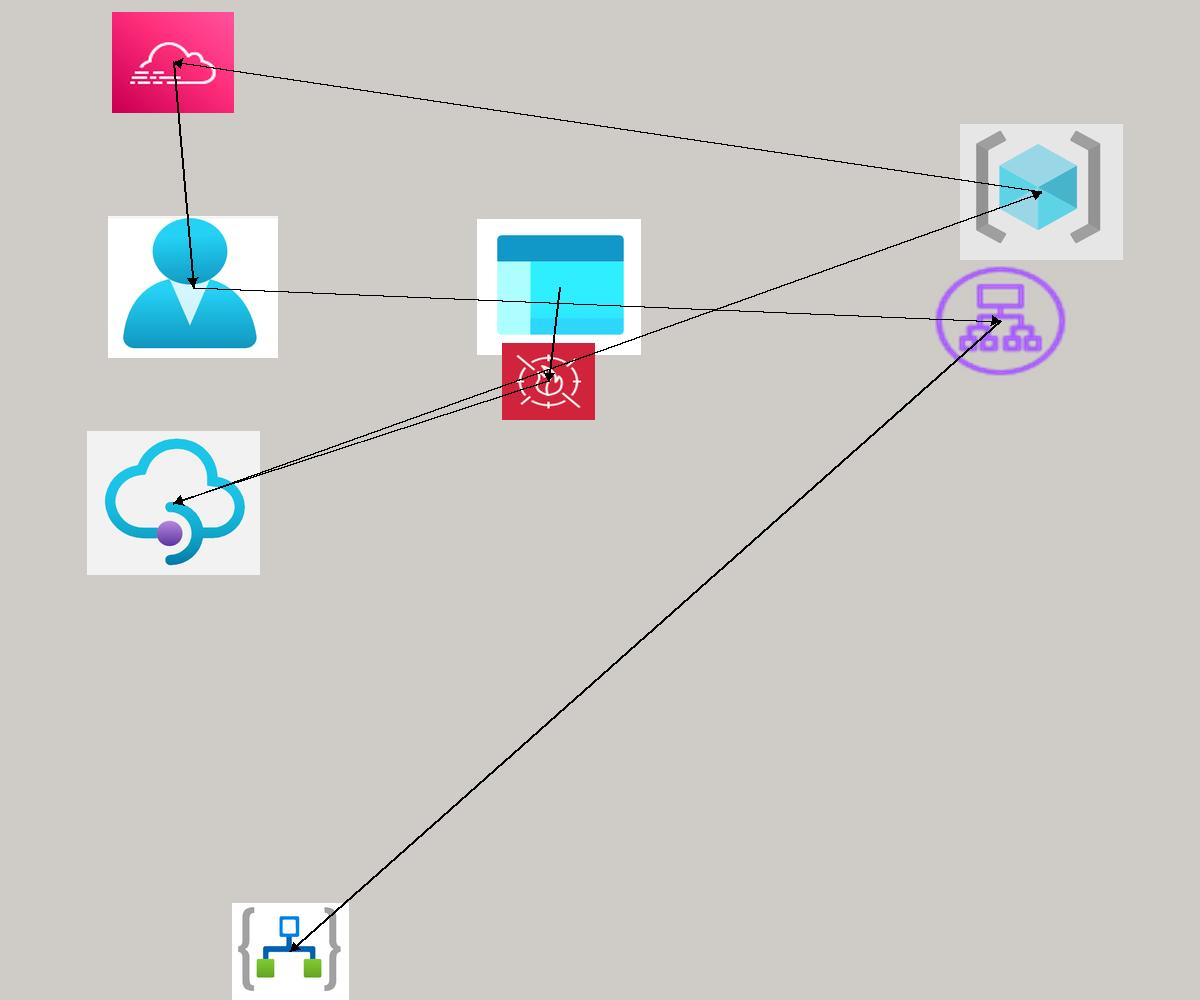AWS-CloudTrail: (112, 12, 234, 113)
AWS-Res_Elastic-Load-Balancing_Application-Load-Balancer: (930, 262, 1071, 380)
AWS-WAF: (502, 343, 595, 420)
Azure_api_gateway: (87, 431, 260, 575)
Azure_integration-204-Logic-Apps: (232, 903, 349, 1000)
Azure_management-portal: (477, 219, 641, 355)
Azure_resource_group: (960, 124, 1123, 260)
Azure_users: (108, 216, 278, 358)
